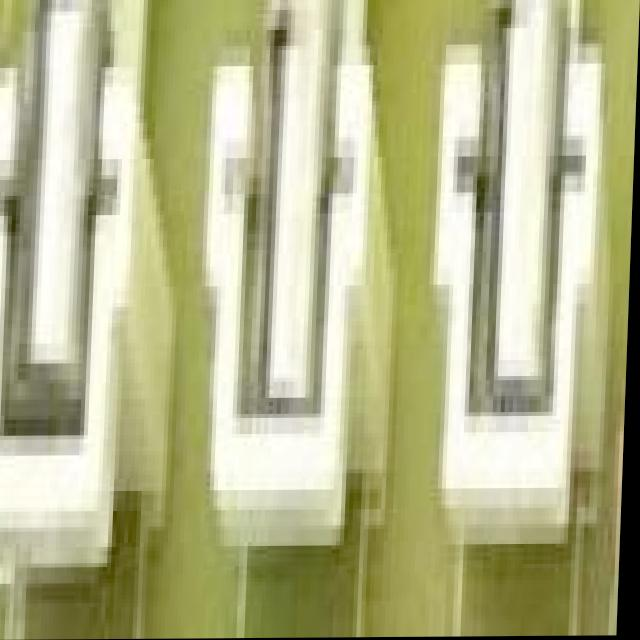fuse: (0, 0, 128, 544), (463, 0, 592, 453), (235, 0, 364, 451)
resistor: (617, 204, 634, 636)
